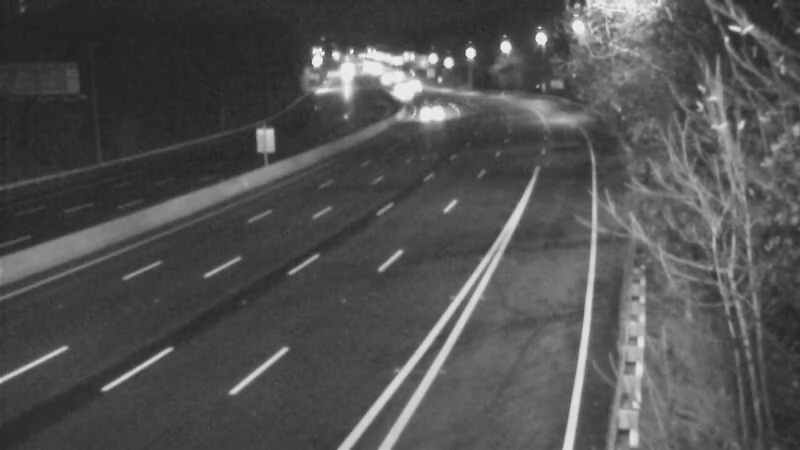vehicle: (379, 69, 429, 119), (403, 89, 453, 139)
